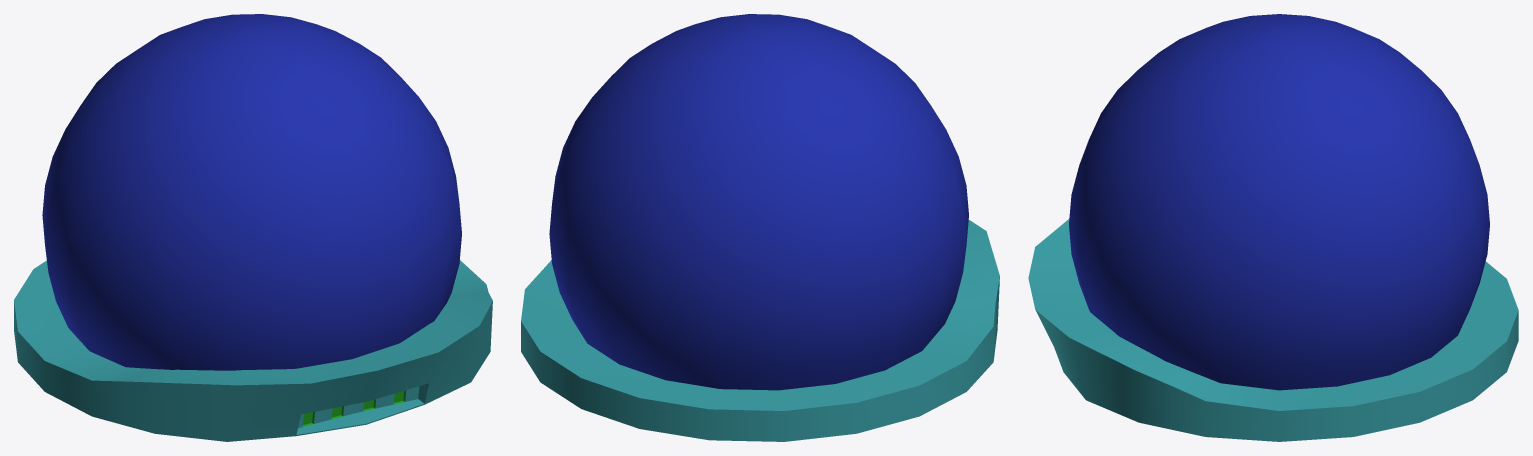
Rendered from LasVegasSphere_high.fbx.
3 renders of one model, left to right at view 1: azimuth 30°, elevation 25°; view 2: azimuth 150°, elevation 25°; view 3: azimuth 270°, elevation 25°, orthographic.
Parts seen in each view (by area): view 1: LasVegasSphere_high; view 2: LasVegasSphere_high; view 3: LasVegasSphere_high.
Boxes of the visible parts, <box> form: LasVegasSphere_high: <box>14,14,492,441</box>; LasVegasSphere_high: <box>521,14,999,441</box>; LasVegasSphere_high: <box>1028,14,1518,441</box>.
Size of the model in its own units: 14.04 by 9.95 by 14.39.
